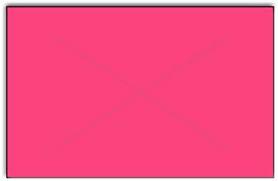pink_zone: (4, 3, 278, 181)
